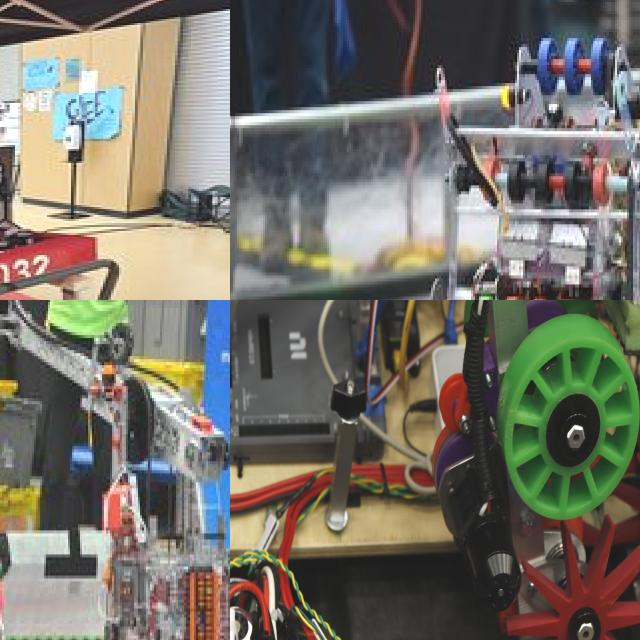FRC-Robots: (230, 300, 640, 640), (0, 300, 230, 640), (364, 32, 640, 300), (0, 7, 123, 300)
